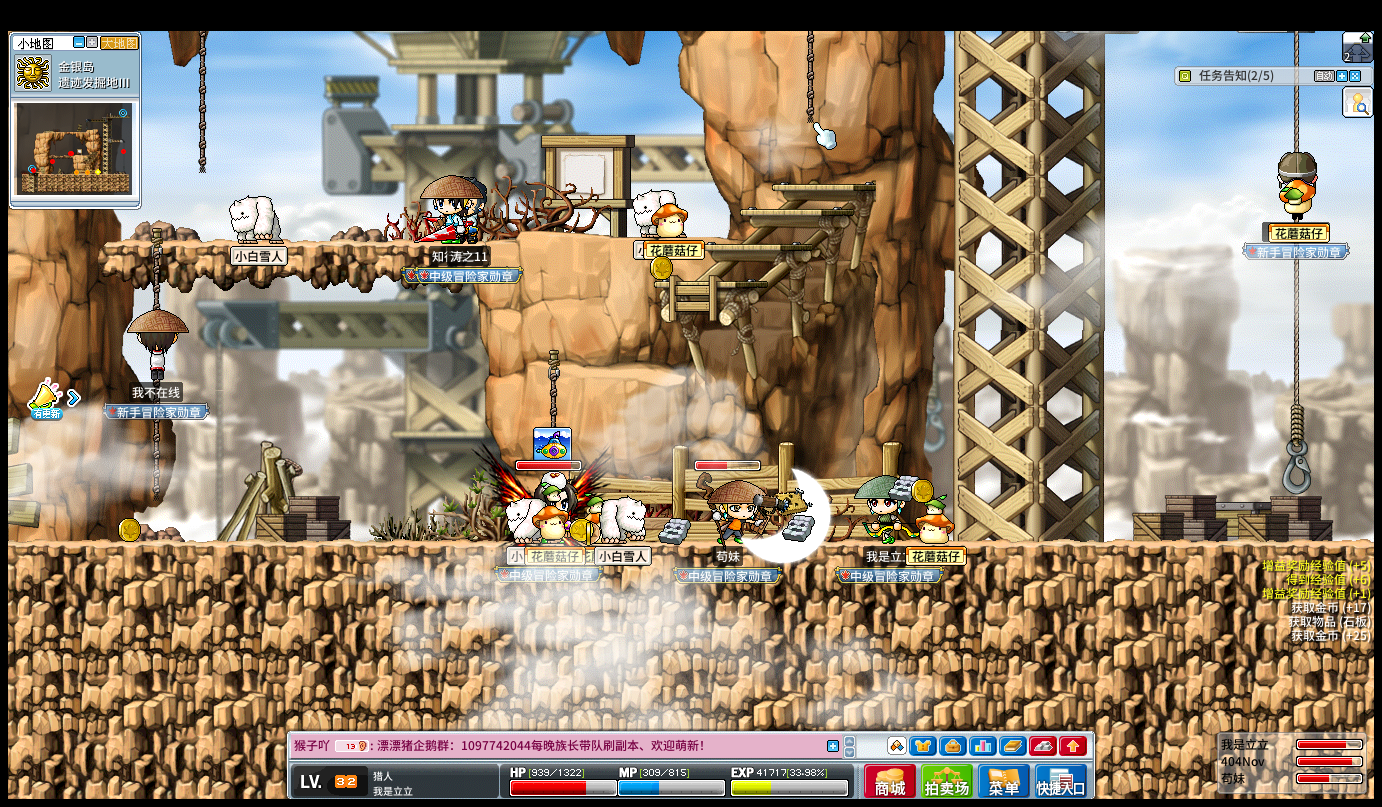floor: (100, 238, 469, 249), (575, 364, 688, 384), (650, 279, 765, 291), (593, 232, 736, 240), (738, 205, 851, 215), (649, 279, 765, 287), (700, 243, 810, 251), (736, 207, 848, 214), (770, 184, 874, 191)
rope: (1291, 257, 1302, 406), (198, 29, 207, 172), (546, 349, 561, 428), (544, 349, 558, 427), (153, 419, 164, 509), (150, 227, 161, 308), (1292, 29, 1299, 148), (805, 29, 813, 124), (1289, 399, 1304, 445), (152, 419, 160, 505)
